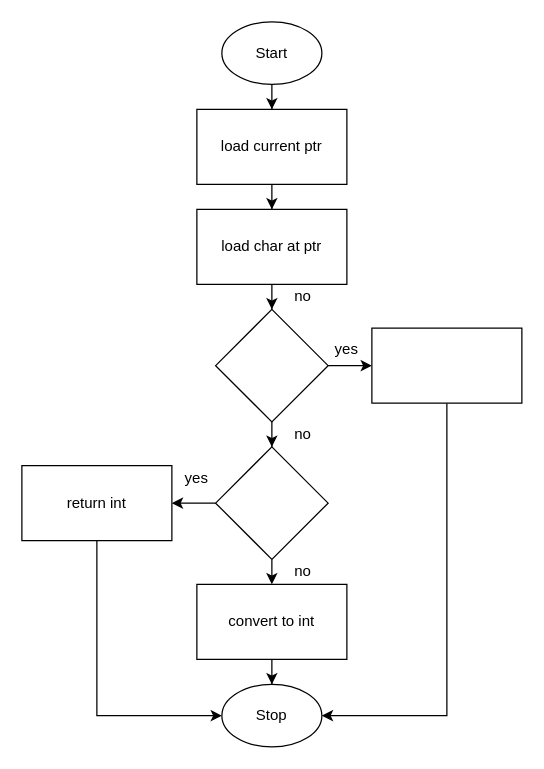
This 544x769 diagram has some shape labels left out. The centre of each missing label's shape, as x and y in pixels:
"char == O" belongs at (271,502).
"char == space" belongs at (271,365).
"return 0" belongs at (446,365).
